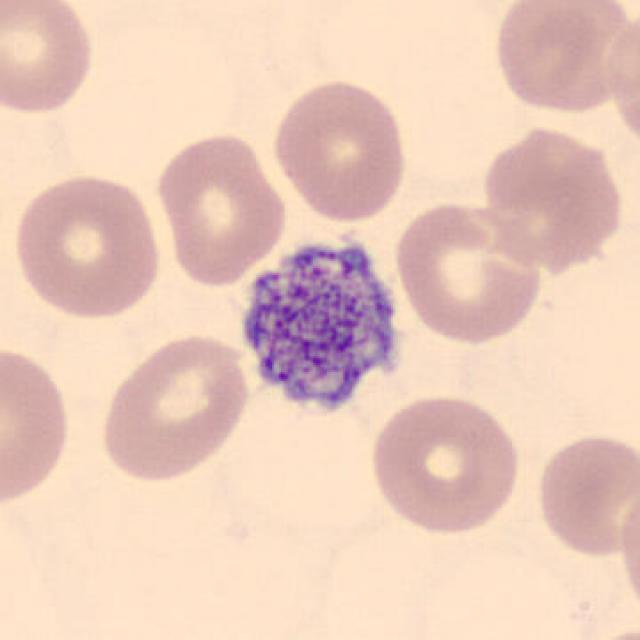Platelets: (228, 224, 414, 432)
RBC: (96, 328, 254, 485), (9, 169, 165, 323), (364, 390, 524, 538), (391, 198, 546, 348), (477, 120, 628, 273), (151, 129, 290, 289), (266, 74, 412, 226), (489, 0, 631, 116), (530, 428, 638, 560), (0, 336, 76, 513), (0, 0, 100, 118), (613, 481, 640, 619), (574, 620, 640, 640)
